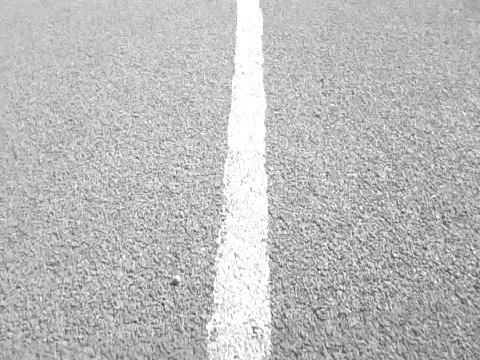Lines: (208, 0, 275, 360)
